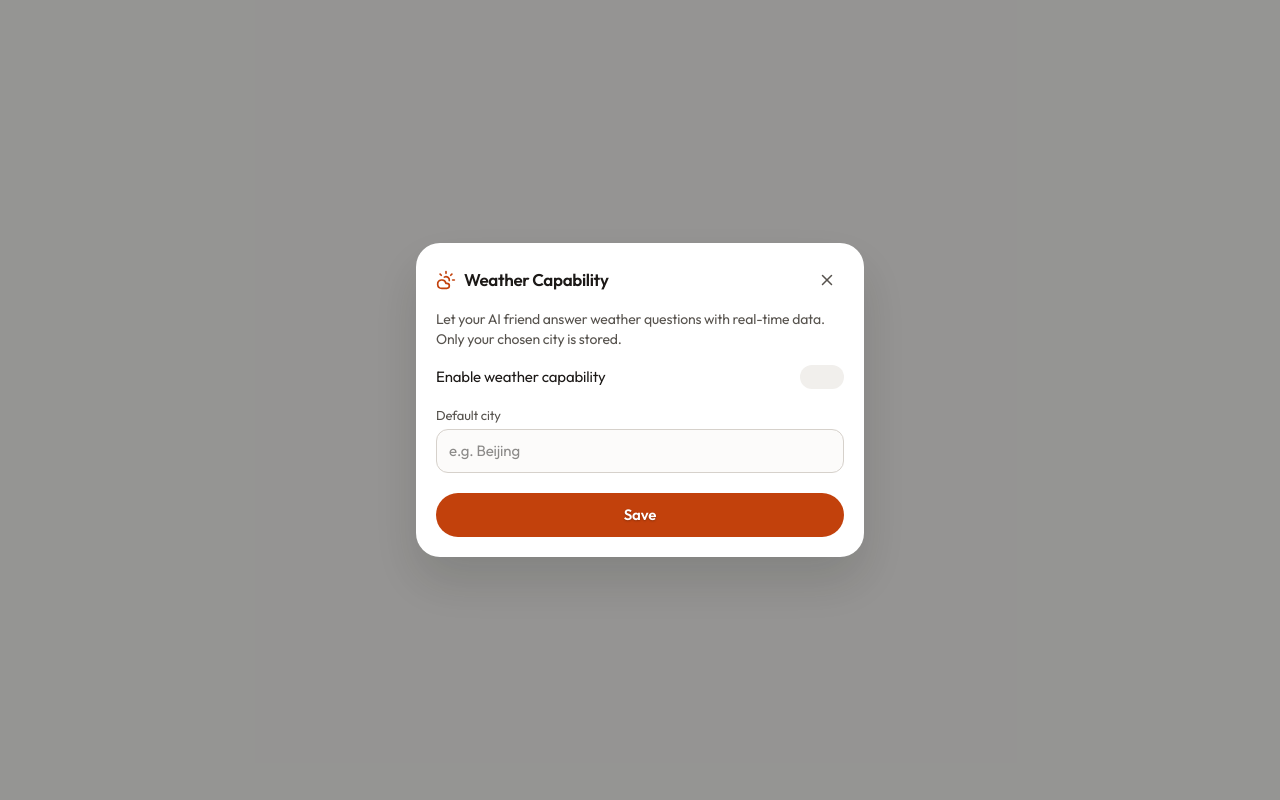
it: WeatherCapabilitySheet › surfaces save failures as an alert instead of closing
The image size is (1280, 800).
Click the button with test id "weather-save-button" at (640, 515), box [436,493,844,537]
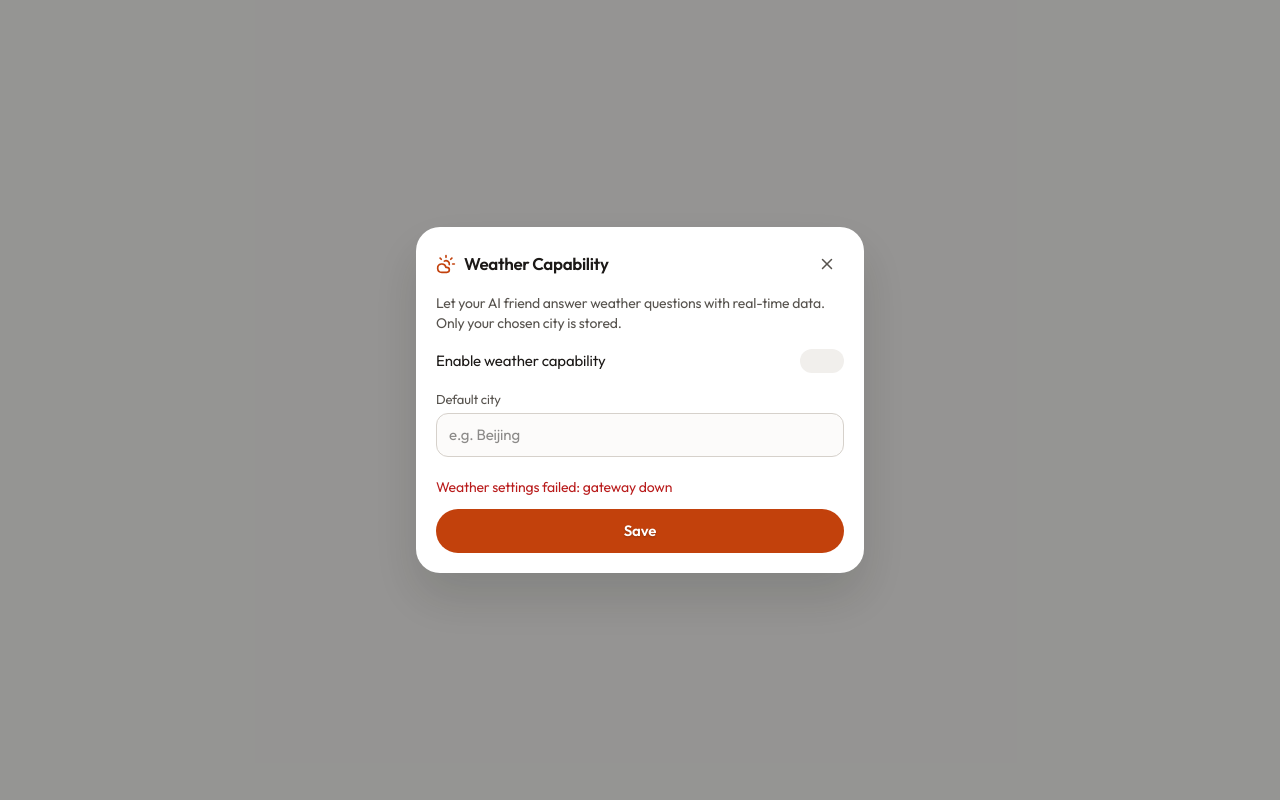
Expected: the message with test id "weather-save-error" shows "gateway down", [436,478,672,496]
